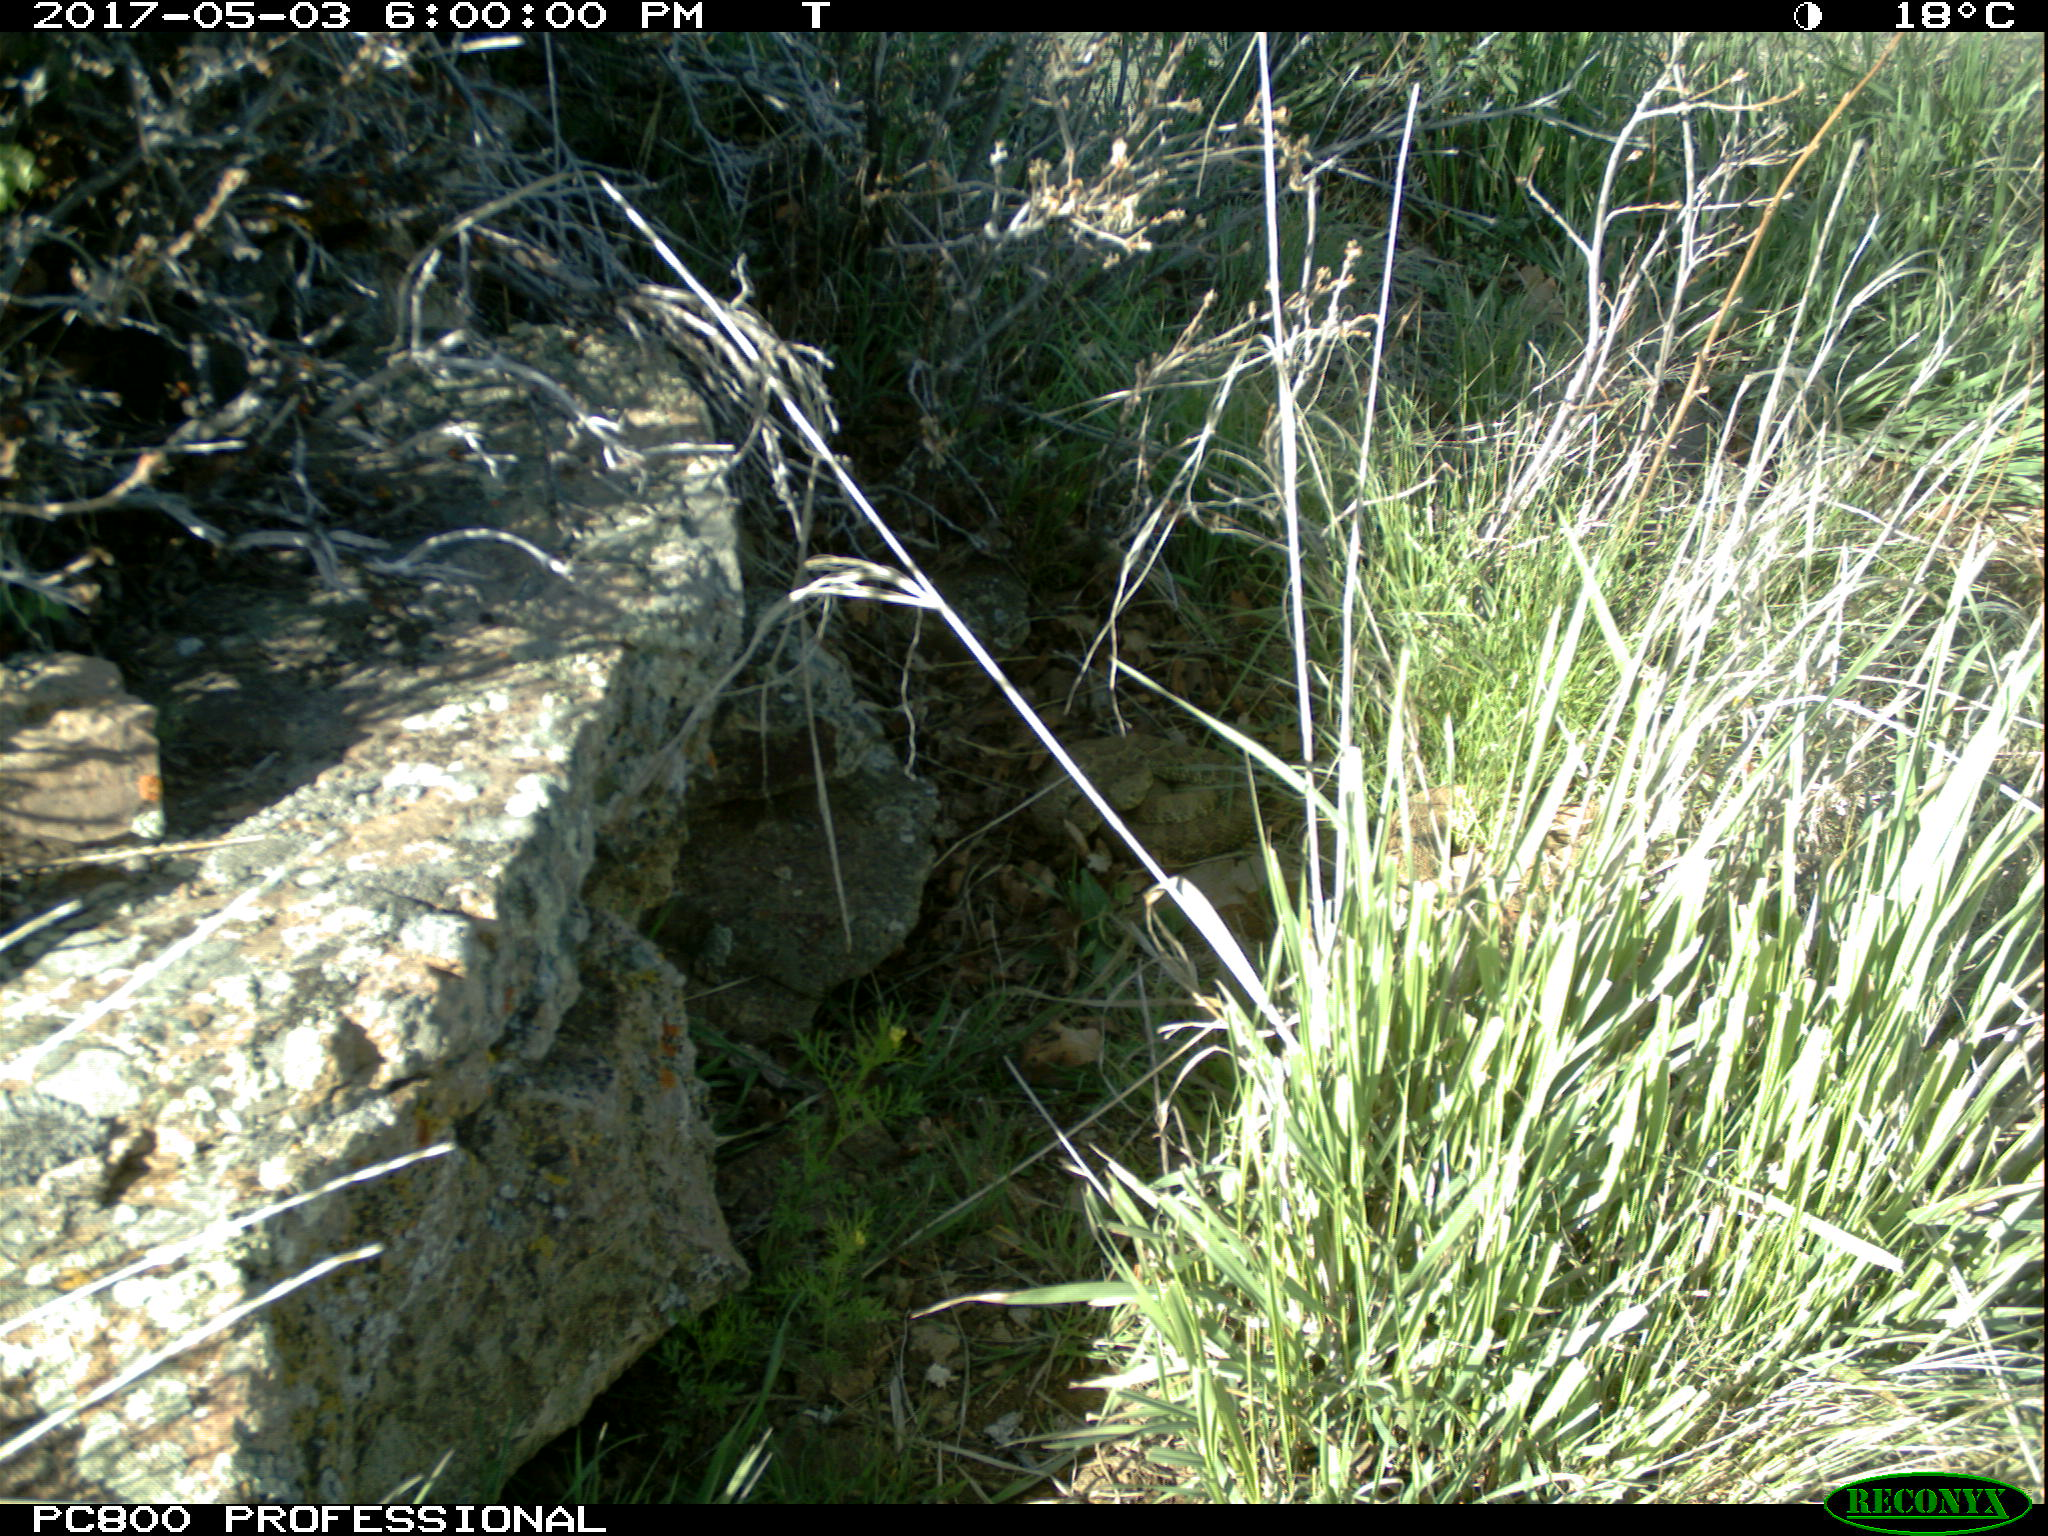snake: (1030, 733, 1259, 866)
